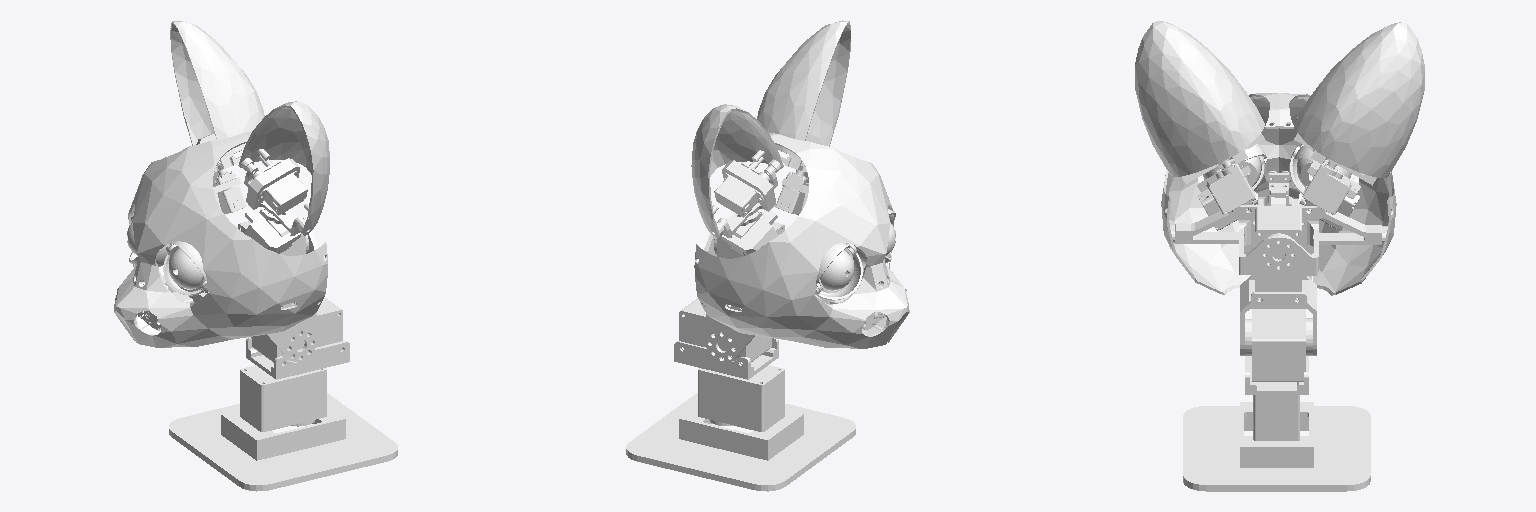
URDF robot description (robotic_cathead_v2):
<?xml version="1.0" encoding="utf-8"?>
<!-- This URDF was automatically created by SolidWorks to URDF Exporter! Originally created by Stephen Brawner (brawner@gmail.com) 
     Commit Version: 1.6.0-4-g7f85cfe  Build Version: 1.6.7995.38578
     For more information, please see http://wiki.ros.org/sw_urdf_exporter -->
<robot
  name="robotic_cathead_v2">
  <link
    name="base_link">
    <inertial>
      <origin
        xyz="0.000234520382824898 -6.09248591656534E-17 0.0129112872355687"
        rpy="0 0 0" />
      <mass
        value="0.0358938056516256" />
      <inertia
        ixx="1.18033301975897E-05"
        ixy="1.59970747747596E-21"
        ixz="-2.43826201674262E-10"
        iyy="1.31102652934283E-05"
        iyz="-3.69048082282653E-20"
        izz="2.27333996455797E-05" />
    </inertial>
    <visual>
      <origin
        xyz="0 0 0"
        rpy="0 0 0" />
      <geometry>
        <mesh
          filename="package://robot_description/meshes/v2/base_link.STL" />
      </geometry>
      <material
        name="">
        <color
          rgba="1 1 1 1" />
      </material>
    </visual>
    <collision>
      <origin
        xyz="0 0 0"
        rpy="0 0 0" />
      <geometry>
        <mesh
          filename="package://robot_description/meshes/v2/base_link.STL" />
      </geometry>
    </collision>
  </link>
  <link
    name="neck_pitch">
    <inertial>
      <origin
        xyz="0.0128139463219508 -0.000667207619900293 -0.000350230193255411"
        rpy="0 0 0" />
      <mass
        value="0.0201259796785391" />
      <inertia
        ixx="3.19848833783626E-06"
        ixy="-2.67244125264574E-22"
        ixz="-7.19603680264999E-09"
        iyy="2.52817644126895E-06"
        iyz="-2.09806269669023E-21"
        izz="1.76083144331031E-06" />
    </inertial>
    <visual>
      <origin
        xyz="0 0 0"
        rpy="0 0 0" />
      <geometry>
        <mesh
          filename="package://robot_description/meshes/v2/neck_pitch.STL" />
      </geometry>
      <material
        name="">
        <color
          rgba="1 1 1 1" />
      </material>
    </visual>
    <collision>
      <origin
        xyz="0 0 0"
        rpy="0 0 0" />
      <geometry>
        <mesh
          filename="package://robot_description/meshes/v2/neck_pitch.STL" />
      </geometry>
    </collision>
  </link>
  <joint
    name="neck_pitch"
    type="revolute">
    <origin
      xyz="0.0075 0 0.039"
      rpy="3.1416 -1.5708 0" />
    <parent
      link="base_link" />
    <child
      link="neck_pitch" />
    <axis
      xyz="1 0 0" />
    <limit
      lower="-1.0"
      upper="1.0"
      effort="10"
      velocity="10" />
  </joint>
  <link
    name="neck_yaw">
    <inertial>
      <origin
        xyz="-0.000811634839457488 -0.00534786566081591 0.0323615869077945"
        rpy="0 0 0" />
      <mass
        value="0.0203871455344079" />
      <inertia
        ixx="2.8700896442293E-06"
        ixy="1.94755786507795E-21"
        ixz="-2.25656855841081E-21"
        iyy="2.83132118609949E-06"
        iyz="3.95919658611168E-08"
        izz="2.21835214734615E-06" />
    </inertial>
    <visual>
      <origin
        xyz="0 0 0"
        rpy="0 0 0" />
      <geometry>
        <mesh
          filename="package://robot_description/meshes/v2/neck_yaw.STL" />
      </geometry>
      <material
        name="">
        <color
          rgba="1 1 1 1" />
      </material>
    </visual>
    <collision>
      <origin
        xyz="0 0 0"
        rpy="0 0 0" />
      <geometry>
        <mesh
          filename="package://robot_description/meshes/v2/neck_yaw.STL" />
      </geometry>
    </collision>
  </link>
  <joint
    name="neck_yaw"
    type="revolute">
    <origin
      xyz="0.015 0 -0.0075"
      rpy="1.5708 0 1.5708" />
    <parent
      link="neck_pitch" />
    <child
      link="neck_yaw" />
    <axis
      xyz="1 0 0" />
    <limit
      lower="-1.0"
      upper="1.0"
      effort="10"
      velocity="10" />
  </joint>
  <link
    name="Head">
    <inertial>
      <origin
        xyz="0.0488912681013092 1.08538433328878E-05 0.000276579080942599"
        rpy="0 0 0" />
      <mass
        value="0.0486694591626662" />
      <inertia
        ixx="2.72604433196559E-05"
        ixy="-3.68621353173411E-08"
        ixz="-4.3819997060583E-07"
        iyy="1.69891497518687E-05"
        iyz="-4.0481930052226E-08"
        izz="2.62366038329185E-05" />
    </inertial>
    <visual>
      <origin
        xyz="0 0 0"
        rpy="0 0 0" />
      <geometry>
        <mesh
          filename="package://robot_description/meshes/v2/Head.STL" />
      </geometry>
      <material
        name="">
        <color
          rgba="1 1 1 1" />
      </material>
    </visual>
    <collision>
      <origin
        xyz="0 0 0"
        rpy="0 0 0" />
      <geometry>
        <mesh
          filename="package://robot_description/meshes/v2/Head.STL" />
      </geometry>
    </collision>
  </link>
  <joint
    name="Head"
    type="revolute">
    <origin
      xyz="-0.00081163 0.011 0.043727"
      rpy="0 0 -1.5708" />
    <parent
      link="neck_yaw" />
    <child
      link="Head" />
    <axis
      xyz="-1 0 0" />
    <limit
      lower="-1.0"
      upper="1.0"
      effort="10"
      velocity="10" />
  </joint>
  <link
    name="Jaw">
    <inertial>
      <origin
        xyz="-0.000281664527083702 -0.00886850040559854 -0.00705436022021119"
        rpy="0 0 0" />
      <mass
        value="0.00250081018611671" />
      <inertia
        ixx="2.09495827450749E-07"
        ixy="-4.64352307926357E-09"
        ixz="-1.14286904013555E-08"
        iyy="2.3690176087197E-07"
        iyz="-1.30685337849183E-08"
        izz="3.97110804963135E-07" />
    </inertial>
    <visual>
      <origin
        xyz="0 0 0"
        rpy="0 0 0" />
      <geometry>
        <mesh
          filename="package://robot_description/meshes/v2/Jaw.STL" />
      </geometry>
      <material
        name="">
        <color
          rgba="1 1 1 1" />
      </material>
    </visual>
    <collision>
      <origin
        xyz="0 0 0"
        rpy="0 0 0" />
      <geometry>
        <mesh
          filename="package://robot_description/meshes/v2/Jaw.STL" />
      </geometry>
    </collision>
  </link>
  <joint
    name="Jaw"
    type="revolute">
    <origin
      xyz="0.05045 0.00081163 -0.023725"
      rpy="0 0 1.5708" />
    <parent
      link="Head" />
    <child
      link="Jaw" />
    <axis
      xyz="-0.99998 0 -0.0070086" />
    <limit
      lower="-1.0"
      upper="0"
      effort="10"
      velocity="10" />
  </joint>
  <link
    name="left_upper_palate">
    <inertial>
      <origin
        xyz="-0.00121394150675413 -0.00330082426507895 -3.90271559772004E-05"
        rpy="0 0 0" />
      <mass
        value="0.000176221898212205" />
      <inertia
        ixx="3.84720216315698E-09"
        ixy="1.24447973906741E-10"
        ixz="1.46402128522693E-12"
        iyy="6.67321103257942E-10"
        iyz="-3.29743565045381E-11"
        izz="3.41631870354667E-09" />
    </inertial>
    <visual>
      <origin
        xyz="0 0 0"
        rpy="0 0 0" />
      <geometry>
        <mesh
          filename="package://robot_description/meshes/v2/left_upper_palate.STL" />
      </geometry>
      <material
        name="">
        <color
          rgba="1 1 1 1" />
      </material>
    </visual>
    <collision>
      <origin
        xyz="0 0 0"
        rpy="0 0 0" />
      <geometry>
        <mesh
          filename="package://robot_description/meshes/v2/left_upper_palate.STL" />
      </geometry>
    </collision>
  </link>
  <joint
    name="left_upper_palate"
    type="revolute">
    <origin
      xyz="0.0826 -0.0036208 -0.017026"
      rpy="0 0 0" />
    <parent
      link="Head" />
    <child
      link="left_upper_palate" />
    <axis
      xyz="-1 0 0" />
    <limit
      lower="-0.4"
      upper="0.4"
      effort="10"
      velocity="10" />
  </joint>
  <link
    name="right_upper_palate">
    <inertial>
      <origin
        xyz="-0.00100001520134109 0.00429312844778602 -2.18980456701406E-05"
        rpy="0 0 0" />
      <mass
        value="0.000136077024955264" />
      <inertia
        ixx="3.07016868574343E-09"
        ixy="-8.98704674149773E-15"
        ixz="1.97808631201849E-16"
        iyy="4.97988402179106E-10"
        iyz="1.14861675537094E-11"
        izz="2.66289738457714E-09" />
    </inertial>
    <visual>
      <origin
        xyz="0 0 0"
        rpy="0 0 0" />
      <geometry>
        <mesh
          filename="package://robot_description/meshes/v2/right_upper_palate.STL" />
      </geometry>
      <material
        name="">
        <color
          rgba="1 1 1 1" />
      </material>
    </visual>
    <collision>
      <origin
        xyz="0 0 0"
        rpy="0 0 0" />
      <geometry>
        <mesh
          filename="package://robot_description/meshes/v2/right_upper_palate.STL" />
      </geometry>
    </collision>
  </link>
  <joint
    name="right_upper_palate"
    type="revolute">
    <origin
      xyz="0.0826 0.003879 -0.016973"
      rpy="0 0 0" />
    <parent
      link="Head" />
    <child
      link="right_upper_palate" />
    <axis
      xyz="-1 0 0" />
    <limit
      lower="-0.4"
      upper="0.4"
      effort="10"
      velocity="10" />
  </joint>
  <link
    name="left_eye_bottom_skin">
    <inertial>
      <origin
        xyz="-8.81672023396451E-07 0.000747044655037624 -0.00883623075164458"
        rpy="0 0 0" />
      <mass
        value="0.000693142703565447" />
      <inertia
        ixx="2.77266897729191E-08"
        ixy="7.33904594049436E-13"
        ixz="5.68936170140738E-12"
        iyy="6.04875367447931E-08"
        iyz="3.00952177308456E-10"
        izz="6.6103483771639E-08" />
    </inertial>
    <visual>
      <origin
        xyz="0 0 0"
        rpy="0 0 0" />
      <geometry>
        <mesh
          filename="package://robot_description/meshes/v2/left_eye_bottom_skin.STL" />
      </geometry>
      <material
        name="">
        <color
          rgba="1 1 1 1" />
      </material>
    </visual>
    <collision>
      <origin
        xyz="0 0 0"
        rpy="0 0 0" />
      <geometry>
        <mesh
          filename="package://robot_description/meshes/v2/left_eye_bottom_skin.STL" />
      </geometry>
    </collision>
  </link>
  <joint
    name="left_eye_bottom_skin"
    type="revolute">
    <origin
      xyz="0.068835 -0.018654 0.008792"
      rpy="0 -0.47221 1.3207" />
    <parent
      link="Head" />
    <child
      link="left_eye_bottom_skin" />
    <axis
      xyz="1 0 0" />
    <limit
      lower="-0.8"
      upper="0.5"
      effort="10"
      velocity="10" />
  </joint>
  <link
    name="left_eye_upper_skin">
    <inertial>
      <origin
        xyz="-1.21356281183871E-07 0.0024056058098792 0.00731800173066526"
        rpy="0 0 0" />
      <mass
        value="0.000598966582559377" />
      <inertia
        ixx="2.14446077215527E-08"
        ixy="-2.09008909208237E-14"
        ixz="-5.08710291140975E-13"
        iyy="4.36692578374628E-08"
        iyz="-2.14618205489364E-10"
        izz="4.73716432956453E-08" />
    </inertial>
    <visual>
      <origin
        xyz="0 0 0"
        rpy="0 0 0" />
      <geometry>
        <mesh
          filename="package://robot_description/meshes/v2/left_eye_upper_skin.STL" />
      </geometry>
      <material
        name="">
        <color
          rgba="1 1 1 1" />
      </material>
    </visual>
    <collision>
      <origin
        xyz="0 0 0"
        rpy="0 0 0" />
      <geometry>
        <mesh
          filename="package://robot_description/meshes/v2/left_eye_upper_skin.STL" />
      </geometry>
    </collision>
  </link>
  <joint
    name="left_eye_upper_skin"
    type="revolute">
    <origin
      xyz="0.068835 -0.018654 0.008792"
      rpy="0 -0.47221 1.3207" />
    <parent
      link="Head" />
    <child
      link="left_eye_upper_skin" />
    <axis
      xyz="1 0 0" />
    <limit
      lower="-0.3"
      upper="1.0"
      effort="10"
      velocity="10" />
  </joint>
  <link
    name="right_eye_bottom_skin">
    <inertial>
      <origin
        xyz="-1.20461260855187E-07 -0.000980373956093544 -0.0076406086603058"
        rpy="0 0 0" />
      <mass
        value="0.000598966555985285" />
      <inertia
        ixx="2.14446186133389E-08"
        ixy="-3.33798334854262E-14"
        ixz="5.00358379113636E-13"
        iyy="4.38809217675702E-08"
        iyz="-8.85934737494401E-10"
        izz="4.71600094962298E-08" />
    </inertial>
    <visual>
      <origin
        xyz="0 0 0"
        rpy="0 0 0" />
      <geometry>
        <mesh
          filename="package://robot_description/meshes/v2/right_eye_bottom_skin.STL" />
      </geometry>
      <material
        name="">
        <color
          rgba="1 1 1 1" />
      </material>
    </visual>
    <collision>
      <origin
        xyz="0 0 0"
        rpy="0 0 0" />
      <geometry>
        <mesh
          filename="package://robot_description/meshes/v2/right_eye_bottom_skin.STL" />
      </geometry>
    </collision>
  </link>
  <joint
    name="right_eye_bottom_skin"
    type="revolute">
    <origin
      xyz="0.068834 0.018538 0.0090585"
      rpy="0 -0.45863 -1.3224" />
    <parent
      link="Head" />
    <child
      link="right_eye_bottom_skin" />
    <axis
      xyz="1 0 0" />
    <limit
      lower="-0.5"
      upper="0.8"
      effort="10"
      velocity="10" />
  </joint>
  <link
    name="right_eye_upper_skin">
    <inertial>
      <origin
        xyz="-8.5186916354979E-07 -0.00240225681139258 0.00853612240419965"
        rpy="0 0 0" />
      <mass
        value="0.000693147206000305" />
      <inertia
        ixx="2.77268574792773E-08"
        ixy="-6.44702273534667E-14"
        ixz="-5.5084533373328E-12"
        iyy="6.0576734328598E-08"
        iyz="-7.62089932309676E-10"
        izz="6.60150656583693E-08" />
    </inertial>
    <visual>
      <origin
        xyz="0 0 0"
        rpy="0 0 0" />
      <geometry>
        <mesh
          filename="package://robot_description/meshes/v2/right_eye_upper_skin.STL" />
      </geometry>
      <material
        name="">
        <color
          rgba="1 1 1 1" />
      </material>
    </visual>
    <collision>
      <origin
        xyz="0 0 0"
        rpy="0 0 0" />
      <geometry>
        <mesh
          filename="package://robot_description/meshes/v2/right_eye_upper_skin.STL" />
      </geometry>
    </collision>
  </link>
  <joint
    name="right_eye_upper_skin"
    type="revolute">
    <origin
      xyz="0.068834 0.018538 0.0090585"
      rpy="0 -0.45863 -1.3224" />
    <parent
      link="Head" />
    <child
      link="right_eye_upper_skin" />
    <axis
      xyz="1 0 0" />
    <limit
      lower="-1.0"
      upper="0.3"
      effort="10"
      velocity="10" />
  </joint>
  <link
    name="left_ear_rotate">
    <inertial>
      <origin
        xyz="0.00757372861463268 0.00255901841971672 0.00307769419838377"
        rpy="0 0 0" />
      <mass
        value="0.00399267599766466" />
      <inertia
        ixx="3.03514860446406E-07"
        ixy="-1.51640702436146E-08"
        ixz="-7.54996104284108E-09"
        iyy="2.04661990605028E-07"
        iyz="-5.32247042894084E-09"
        izz="2.24339427998261E-07" />
    </inertial>
    <visual>
      <origin
        xyz="0 0 0"
        rpy="0 0 0" />
      <geometry>
        <mesh
          filename="package://robot_description/meshes/v2/left_ear_rotate.STL" />
      </geometry>
      <material
        name="">
        <color
          rgba="1 1 1 1" />
      </material>
    </visual>
    <collision>
      <origin
        xyz="0 0 0"
        rpy="0 0 0" />
      <geometry>
        <mesh
          filename="package://robot_description/meshes/v2/left_ear_rotate.STL" />
      </geometry>
    </collision>
  </link>
  <joint
    name="left_ear_rotate"
    type="revolute">
    <origin
      xyz="0.028836 -0.023597 0.030845"
      rpy="1.1105 -1.0383 -1.2987" />
    <parent
      link="Head" />
    <child
      link="left_ear_rotate" />
    <axis
      xyz="-1 0 0" />
    <limit
      lower="-1.0"
      upper="1.0"
      effort="10"
      velocity="10" />
  </joint>
  <link
    name="left_ear">
    <inertial>
      <origin
        xyz="-0.000622505379398564 -0.0124430601671525 0.0224994650142852"
        rpy="0 0 0" />
      <mass
        value="0.00432884933202859" />
      <inertia
        ixx="1.54785932125057E-06"
        ixy="-3.8437693491593E-08"
        ixz="4.48685380772199E-09"
        iyy="2.19312639606371E-06"
        iyz="-2.72221120187765E-08"
        izz="1.14454023817863E-06" />
    </inertial>
    <visual>
      <origin
        xyz="0 0 0"
        rpy="0 0 0" />
      <geometry>
        <mesh
          filename="package://robot_description/meshes/v2/left_ear.STL" />
      </geometry>
      <material
        name="">
        <color
          rgba="1 1 1 1" />
      </material>
    </visual>
    <collision>
      <origin
        xyz="0 0 0"
        rpy="0 0 0" />
      <geometry>
        <mesh
          filename="package://robot_description/meshes/v2/left_ear.STL" />
      </geometry>
    </collision>
  </link>
  <joint
    name="left_ear"
    type="revolute">
    <origin
      xyz="0.0085 0 0"
      rpy="-1.5708 0 -1.5708" />
    <parent
      link="left_ear_rotate" />
    <child
      link="left_ear" />
    <axis
      xyz="1 0 0" />
    <limit
      lower="-1.0"
      upper="1.0"
      effort="10"
      velocity="10" />
  </joint>
  <link
    name="right_ear_rotate">
    <inertial>
      <origin
        xyz="0.00757372888321453 -0.00255901866648994 0.00307769414652344"
        rpy="0 0 0" />
      <mass
        value="0.00399267606928794" />
      <inertia
        ixx="3.03514853134281E-07"
        ixy="1.51640728548874E-08"
        ixz="-7.5499663239417E-09"
        iyy="2.04661986775007E-07"
        iyz="5.32247512101527E-09"
        izz="2.2433942457583E-07" />
    </inertial>
    <visual>
      <origin
        xyz="0 0 0"
        rpy="0 0 0" />
      <geometry>
        <mesh
          filename="package://robot_description/meshes/v2/right_ear_rotate.STL" />
      </geometry>
      <material
        name="">
        <color
          rgba="1 1 1 1" />
      </material>
    </visual>
    <collision>
      <origin
        xyz="0 0 0"
        rpy="0 0 0" />
      <geometry>
        <mesh
          filename="package://robot_description/meshes/v2/right_ear_rotate.STL" />
      </geometry>
    </collision>
  </link>
  <joint
    name="right_ear_rotate"
    type="revolute">
    <origin
      xyz="0.028836 0.023175 0.031173"
      rpy="-1.1029 -1.0518 1.2921" />
    <parent
      link="Head" />
    <child
      link="right_ear_rotate" />
    <axis
      xyz="-1 0 0" />
    <limit
      lower="-1.0"
      upper="1.0"
      effort="10"
      velocity="10" />
  </joint>
  <link
    name="right_ear">
    <inertial>
      <origin
        xyz="-0.00062249661125019 0.0124431239977121 0.0224994891385241"
        rpy="0 0 0" />
      <mass
        value="0.00432884881276985" />
      <inertia
        ixx="1.54785009992891E-06"
        ixy="3.8439495469593E-08"
        ixz="4.4875411668349E-09"
        iyy="2.19312257593482E-06"
        iyz="2.72282589347445E-08"
        izz="1.14453429483937E-06" />
    </inertial>
    <visual>
      <origin
        xyz="0 0 0"
        rpy="0 0 0" />
      <geometry>
        <mesh
          filename="package://robot_description/meshes/v2/right_ear.STL" />
      </geometry>
      <material
        name="">
        <color
          rgba="1 1 1 1" />
      </material>
    </visual>
    <collision>
      <origin
        xyz="0 0 0"
        rpy="0 0 0" />
      <geometry>
        <mesh
          filename="package://robot_description/meshes/v2/right_ear.STL" />
      </geometry>
    </collision>
  </link>
  <joint
    name="right_ear"
    type="revolute">
    <origin
      xyz="0.0085 0 0"
      rpy="1.5708 0 1.5708" />
    <parent
      link="right_ear_rotate" />
    <child
      link="right_ear" />
    <axis
      xyz="1 0 0" />
    <limit
      lower="-1.0"
      upper="1.0"
      effort="10"
      velocity="10" />
  </joint>
  
</robot>

--- What the picture shows (computed from the rendered views, not written in the file) ---
3 views of the same robot in one strip: view 1: azimuth 30°, elevation 25°; view 2: azimuth 150°, elevation 25°; view 3: azimuth 270°, elevation 25° (orthographic).
Model robotic_cathead_v2 with 15 links and 14 joints (14 revolute), rooted at base_link, posed all joints at 0.
Links seen in each view (by area): view 1: Head, base_link, left_ear, right_ear, neck_pitch, right_ear_rotate, neck_yaw; view 2: Head, base_link, right_ear, left_ear, neck_pitch, left_ear_rotate, neck_yaw, left_eye_bottom_skin; view 3: Head, base_link, left_ear, right_ear, neck_pitch, neck_yaw.
Boxes of the visible links, x1,y1,x2,y2 form: Head: (114, 132, 327, 347); base_link: (169, 365, 397, 491); left_ear: (170, 21, 264, 155); right_ear: (238, 101, 329, 235); neck_pitch: (246, 297, 349, 379); right_ear_rotate: (244, 158, 307, 235); neck_yaw: (238, 221, 316, 361); Head: (694, 133, 909, 348); base_link: (626, 365, 855, 491); right_ear: (757, 20, 850, 156); left_ear: (691, 104, 783, 237); neck_pitch: (674, 298, 778, 379); left_ear_rotate: (714, 160, 777, 237); neck_yaw: (706, 222, 784, 363); left_eye_bottom_skin: (814, 243, 862, 300); Head: (1161, 93, 1396, 295); base_link: (1183, 395, 1370, 491); left_ear: (1294, 22, 1424, 178); right_ear: (1135, 21, 1264, 176); neck_pitch: (1245, 309, 1312, 394); neck_yaw: (1240, 207, 1316, 355).
Bounding box of the posed robot: 0.1252 × 0.124 × 0.1916 m (x, y, z).
15 mesh visuals loaded from 15 distinct referenced files (15 binary STL).
